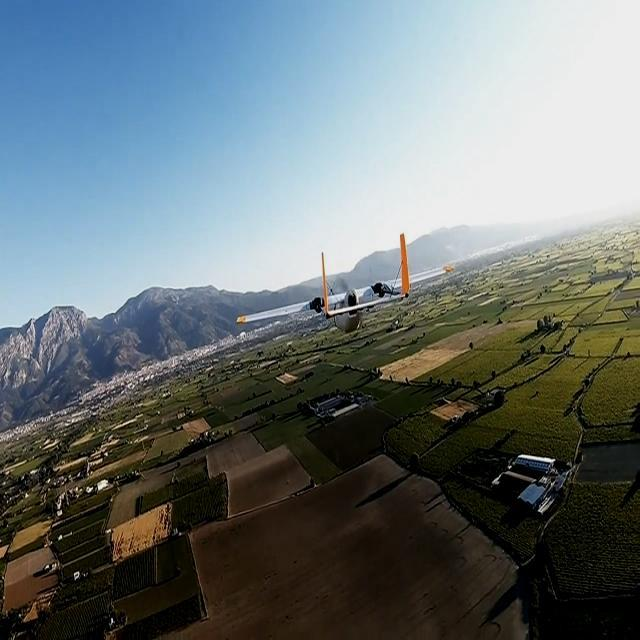iha: (232, 251, 468, 303)
